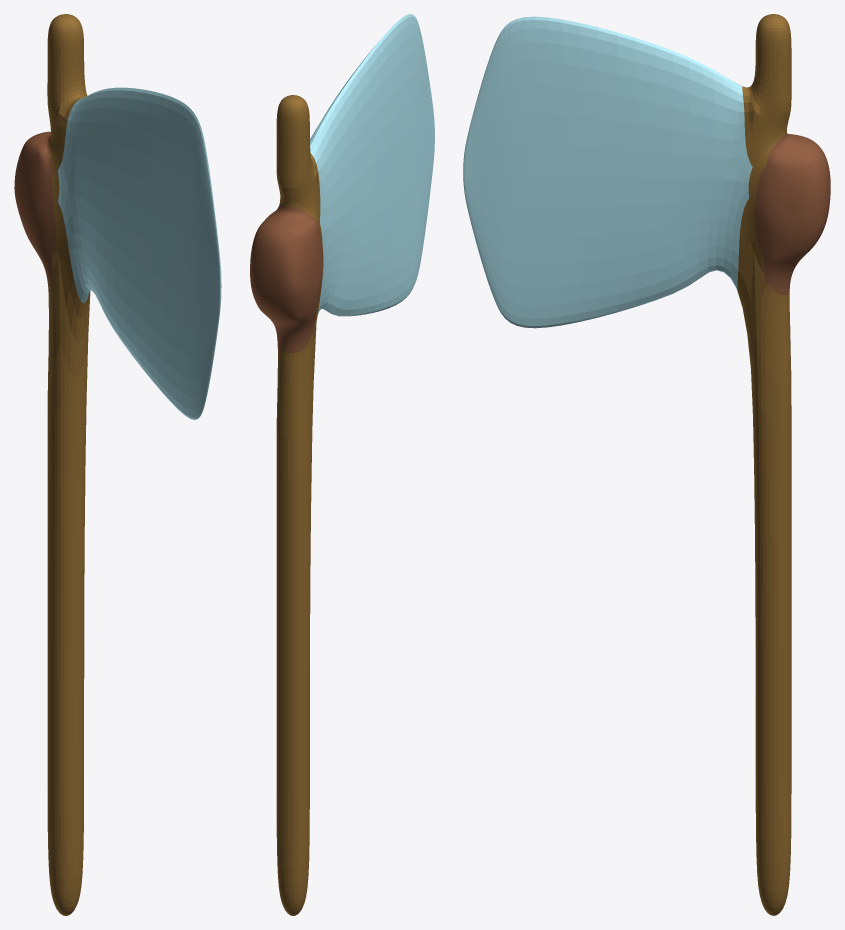
File: axe.fbx
The picture shows the model from 3 angles, left to right: view 1: azimuth 30°, elevation 25°; view 2: azimuth 150°, elevation 25°; view 3: azimuth 270°, elevation 25°; orthographic projection. The views are drawn at different scales.
Visible parts, largest first — view 1: Cube; view 2: Cube; view 3: Cube.
Boxes of the visible parts, x1,y1,x2,y2 form: Cube: [14, 14, 221, 915]; Cube: [250, 14, 434, 915]; Cube: [463, 14, 830, 915].
Bounding box in the file's own units: 379 × 5075 × 1879.
